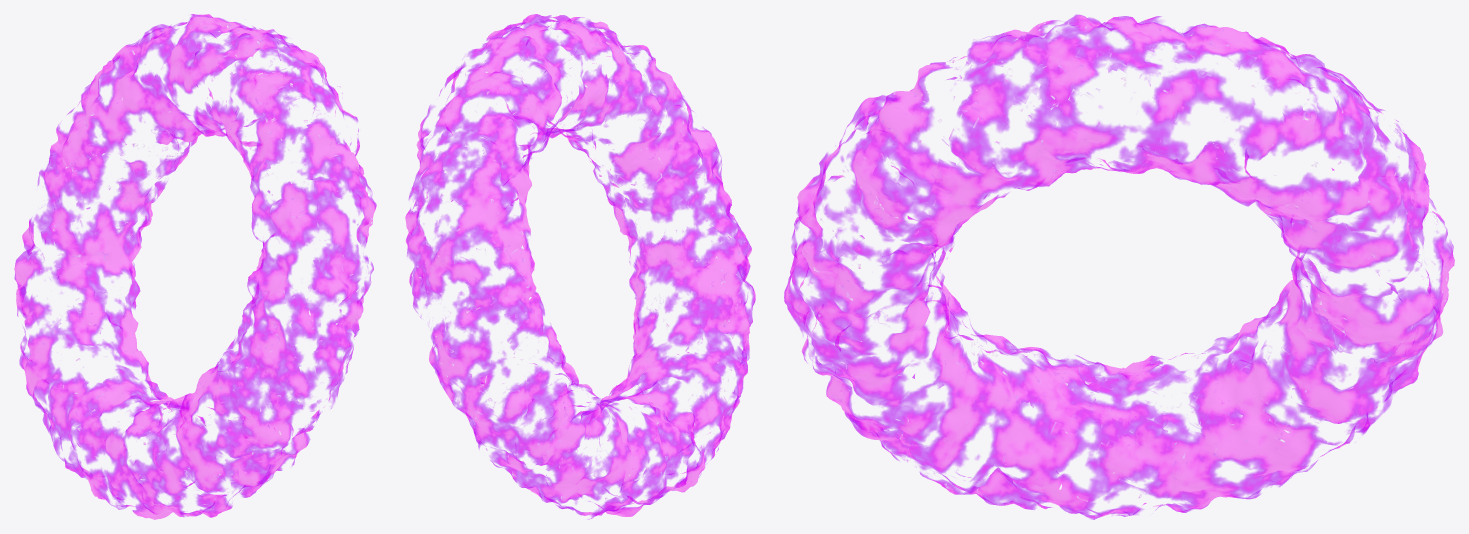
3 renders of one model, left to right at view 1: azimuth 30°, elevation 25°; view 2: azimuth 150°, elevation 25°; view 3: azimuth 270°, elevation 25°, orthographic. The views are drawn at different scales.
Visible parts, largest first — view 1: IC443_gltf_torus_decimated_baked; view 2: IC443_gltf_torus_decimated_baked; view 3: IC443_gltf_torus_decimated_baked.
Part boxes in pixels (x1,y1,x2,y2): IC443_gltf_torus_decimated_baked: (14, 14, 376, 519); IC443_gltf_torus_decimated_baked: (405, 14, 755, 519); IC443_gltf_torus_decimated_baked: (784, 14, 1454, 519).
Bounding box in the file's own units: 4.99 × 8.77 × 9.27.
1 material, 1 textured.
